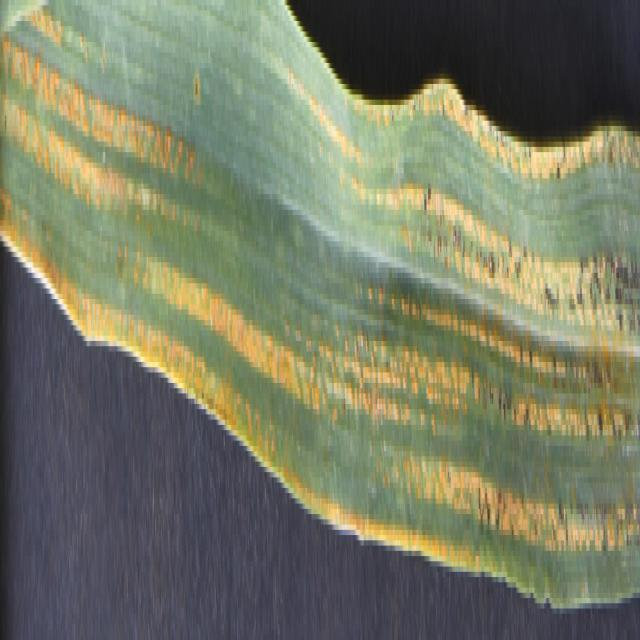leaf rust: (311, 79, 639, 582), (0, 5, 308, 483)
